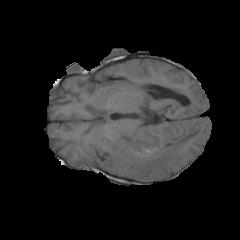glioma: (102, 126, 200, 179)
